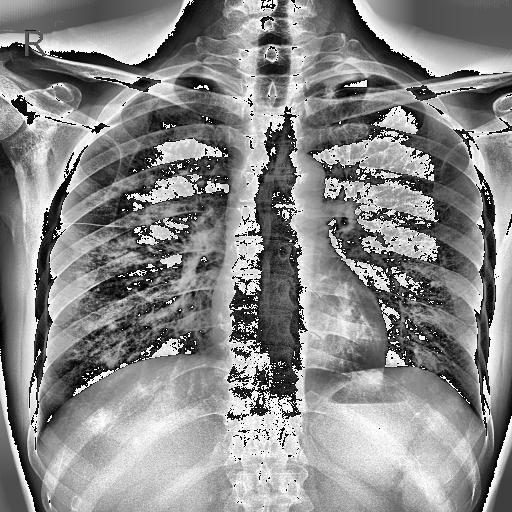11- Pleural thickening: (304, 58, 380, 86), (319, 70, 372, 94), (174, 72, 220, 88)
13- Pulmonary fibrosis: (102, 166, 154, 270), (66, 268, 101, 292)
5- ILD: (62, 172, 176, 376)
6- Infiltration: (77, 242, 158, 366), (103, 179, 159, 226)
7- Lung Opacity: (102, 166, 154, 270)
8- Nodule-Mass: (99, 232, 129, 257), (471, 226, 479, 238), (430, 281, 443, 288)
